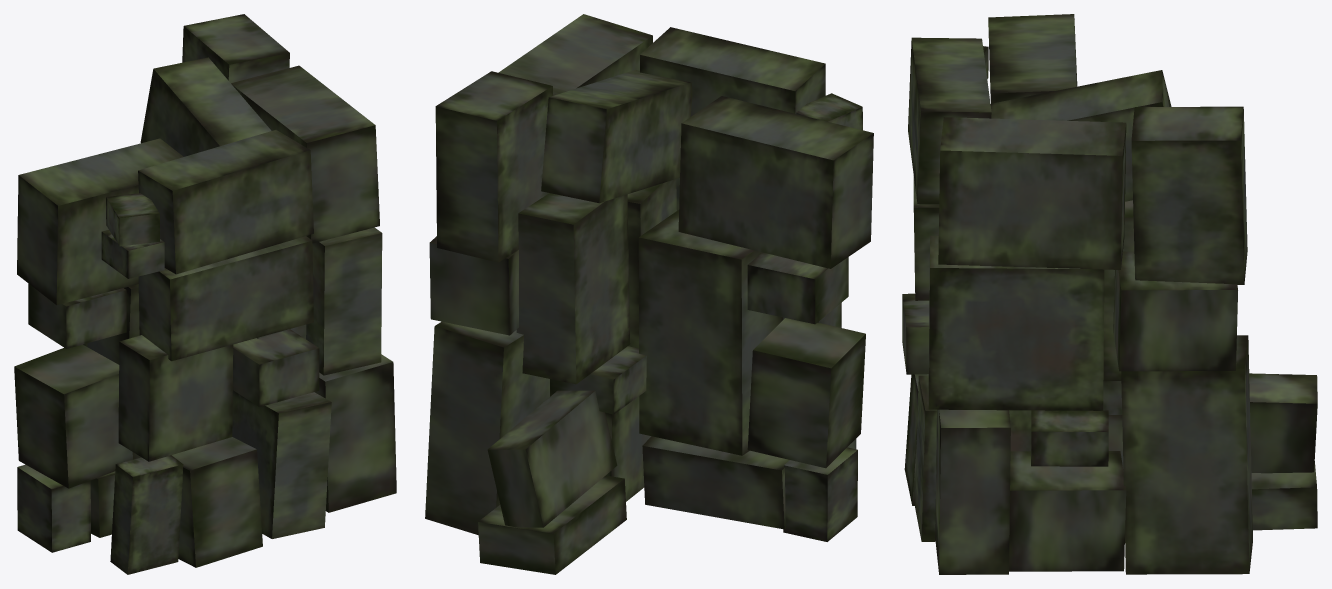
File: ruin-corner-03.fbx
3 views of the same model, side by side, from view 1: azimuth 30°, elevation 25°; view 2: azimuth 150°, elevation 25°; view 3: azimuth 270°, elevation 25° (orthographic). The views are drawn at different scales.
Parts seen in each view (by area): view 1: corner_03; view 2: corner_03; view 3: corner_03.
Part boxes in pixels (x1,y1,x2,y2): corner_03: (14,14,396,574); corner_03: (425,14,873,574); corner_03: (902,14,1317,574).
Size of the model in its own units: 347 by 418 by 354.
